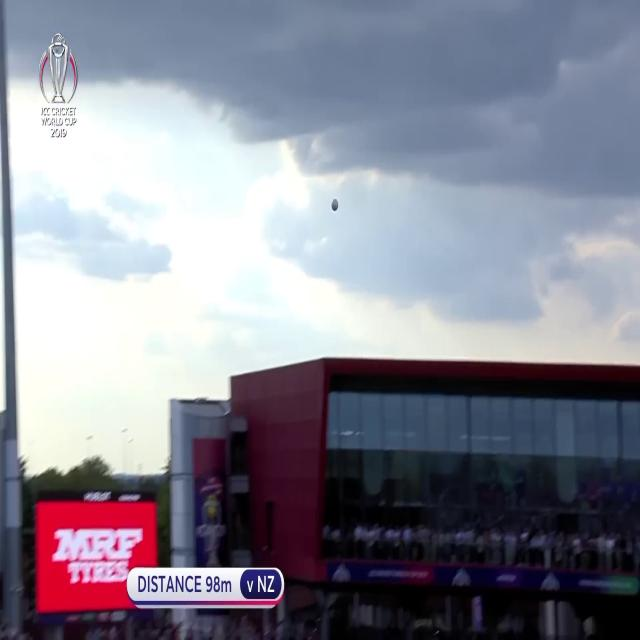ball: (330, 197, 340, 212)
